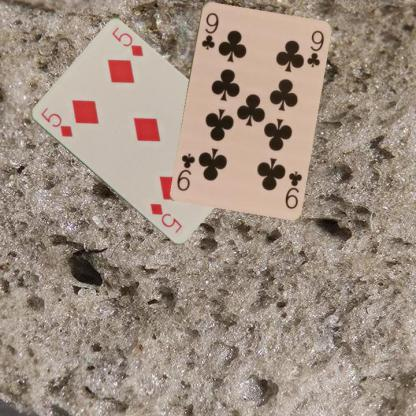5d: (38, 104, 74, 139)
9c: (199, 9, 220, 51), (282, 168, 303, 210)
